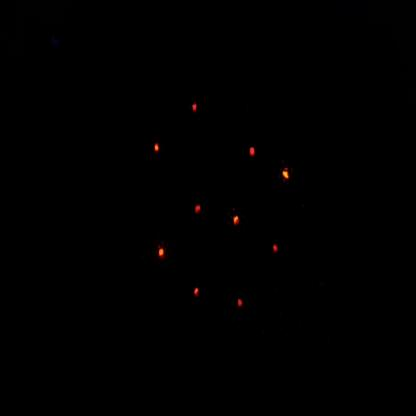PET: (225, 283, 263, 331), (177, 89, 212, 139), (179, 187, 212, 235), (263, 232, 295, 273), (242, 137, 267, 182)
PVC: (224, 201, 250, 245), (143, 130, 167, 175), (186, 273, 208, 314), (276, 156, 296, 198), (151, 238, 173, 274)
